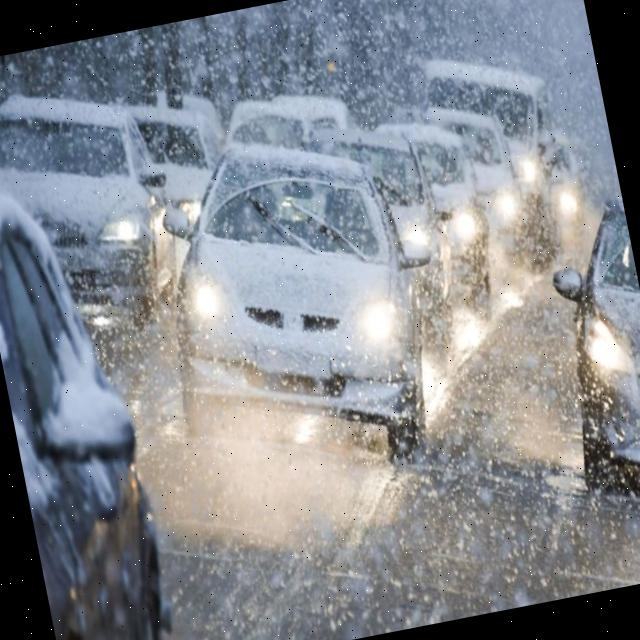car: (146, 123, 433, 495), (0, 162, 177, 640), (0, 72, 177, 328), (310, 106, 458, 367), (541, 192, 640, 538), (424, 42, 554, 276), (380, 106, 495, 325), (120, 86, 222, 255), (437, 100, 525, 280), (529, 128, 598, 252)
